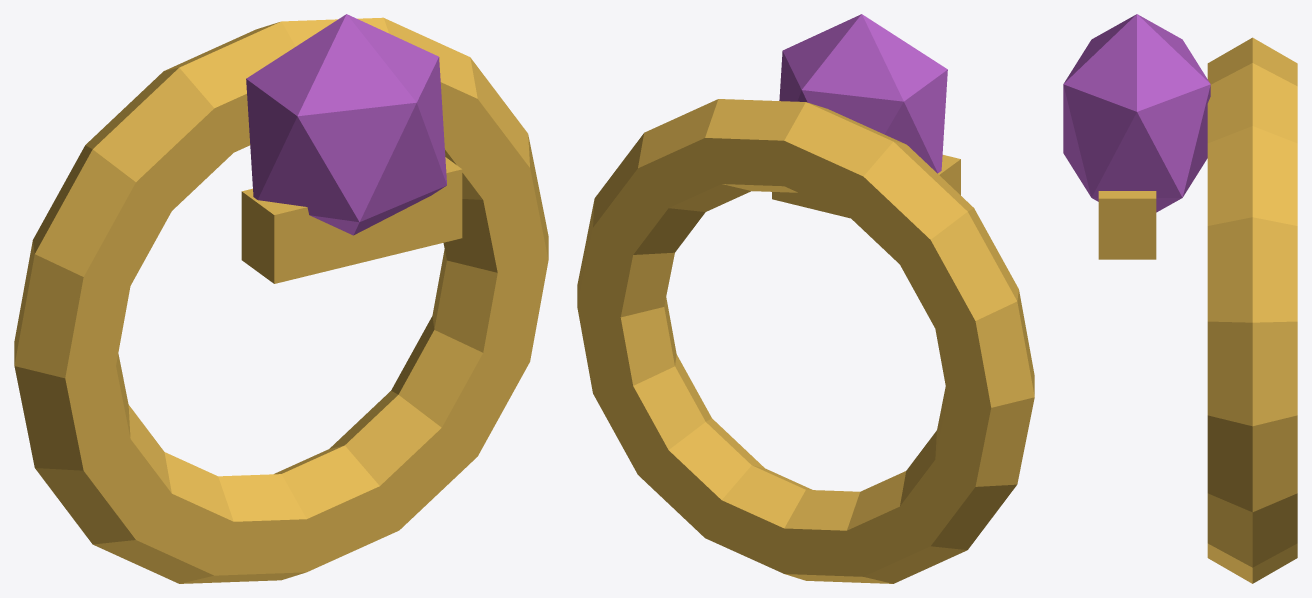
Rendered from ring.glb.
3 renders of one model, left to right at view 1: azimuth 30°, elevation 25°; view 2: azimuth 150°, elevation 25°; view 3: azimuth 270°, elevation 25°, orthographic. The views are drawn at different scales.
Visible parts, largest first — view 1: ring_band, ring_gem, gem_prongs; view 2: ring_band, ring_gem, gem_prongs; view 3: ring_band, ring_gem, gem_prongs.
Part boxes in pixels (x1=…): ring_band: x1=14, y1=17, x2=548, y2=583; ring_gem: x1=246, y1=14, x2=446, y2=235; gem_prongs: x1=241, y1=157, x2=462, y2=283; ring_band: x1=577, y1=99, x2=1034, y2=583; ring_gem: x1=779, y1=14, x2=947, y2=173; gem_prongs: x1=772, y1=155, x2=960, y2=218; ring_band: x1=1207, y1=37, x2=1297, y2=583; ring_gem: x1=1063, y1=14, x2=1210, y2=212; gem_prongs: x1=1098, y1=191, x2=1156, y2=259.
Bounding box in the file's own units: 0.284 × 0.312 × 0.1217.
